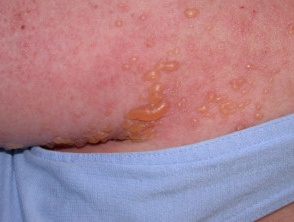SJS-TEN: (0, 0, 294, 171)
